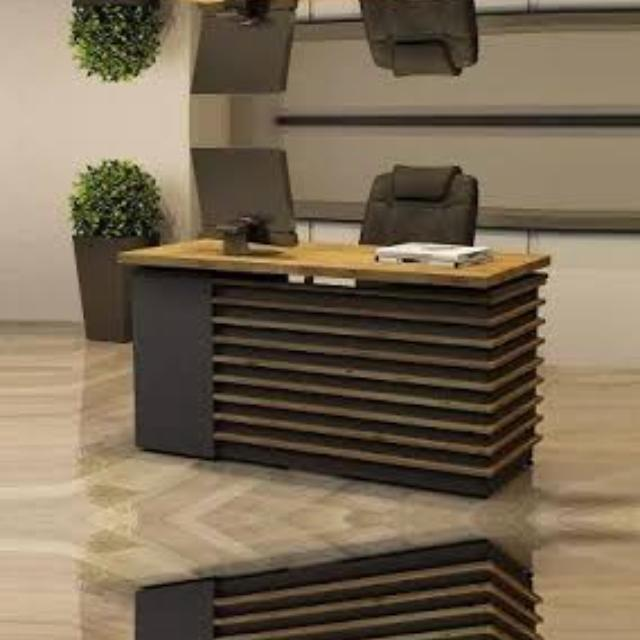obstacle: (92, 149, 594, 501), (92, 536, 594, 640), (92, 0, 594, 91)
